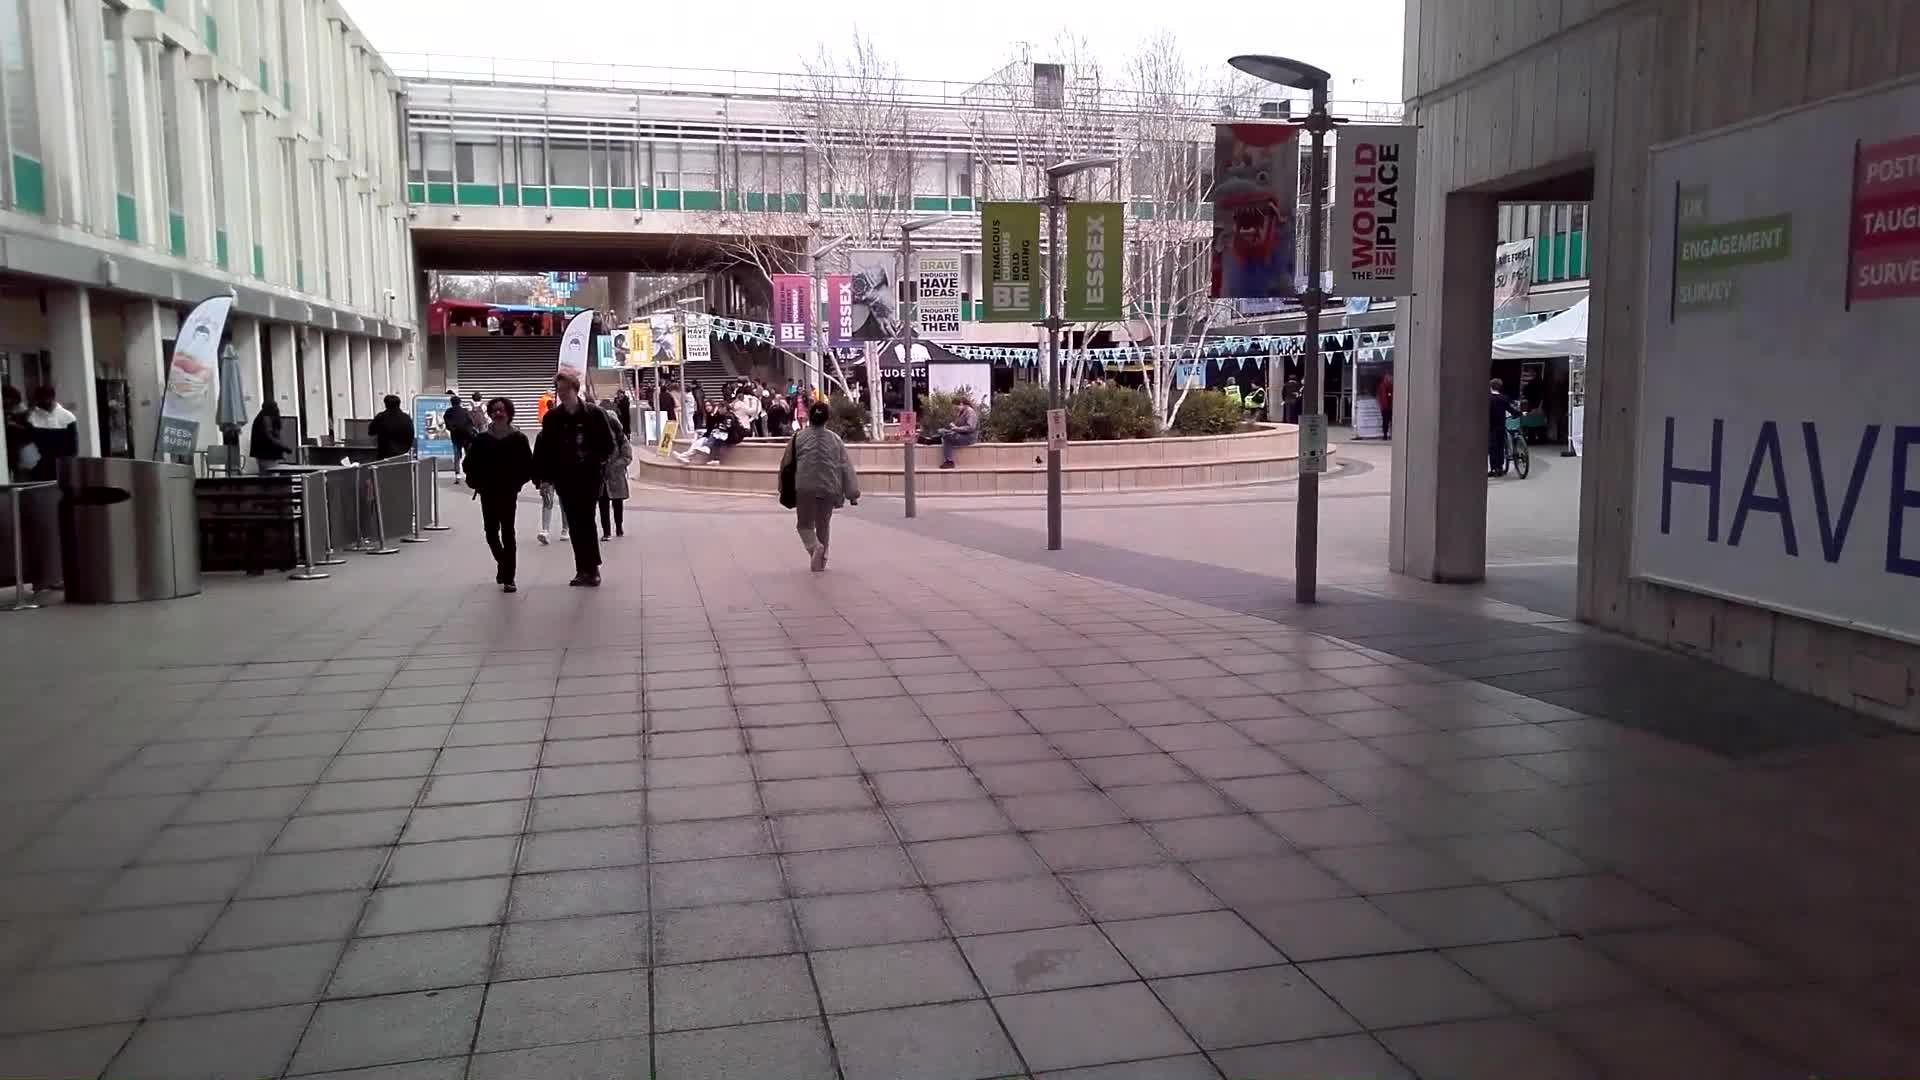Bin: (64, 458, 205, 610)
Person: (537, 373, 620, 589), (789, 397, 857, 583), (473, 397, 533, 595), (940, 390, 984, 471), (368, 391, 417, 461)
